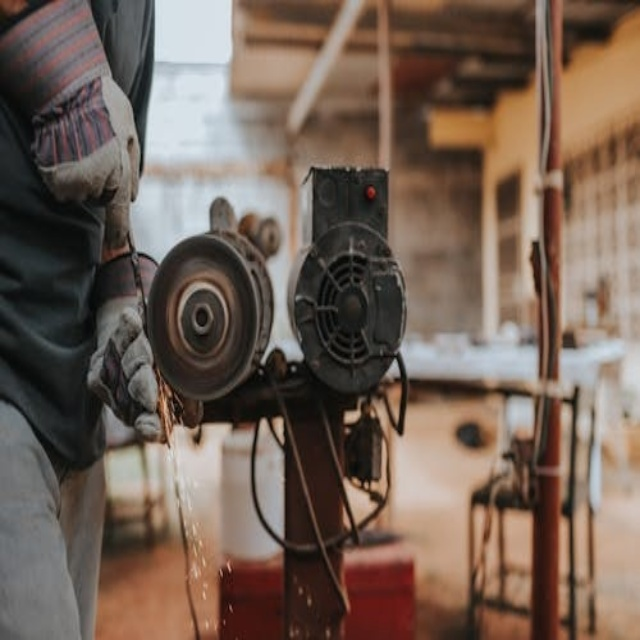Guantes: (3, 10, 145, 254), (86, 269, 170, 446)
